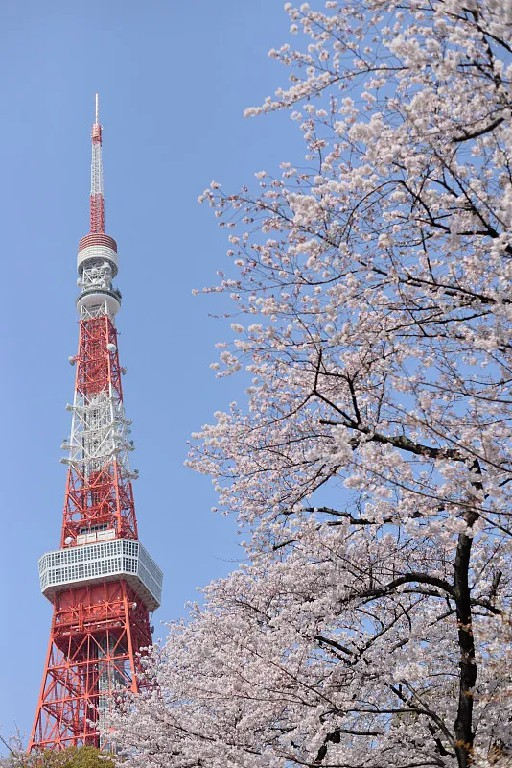Tokyo: (26, 89, 166, 757)
